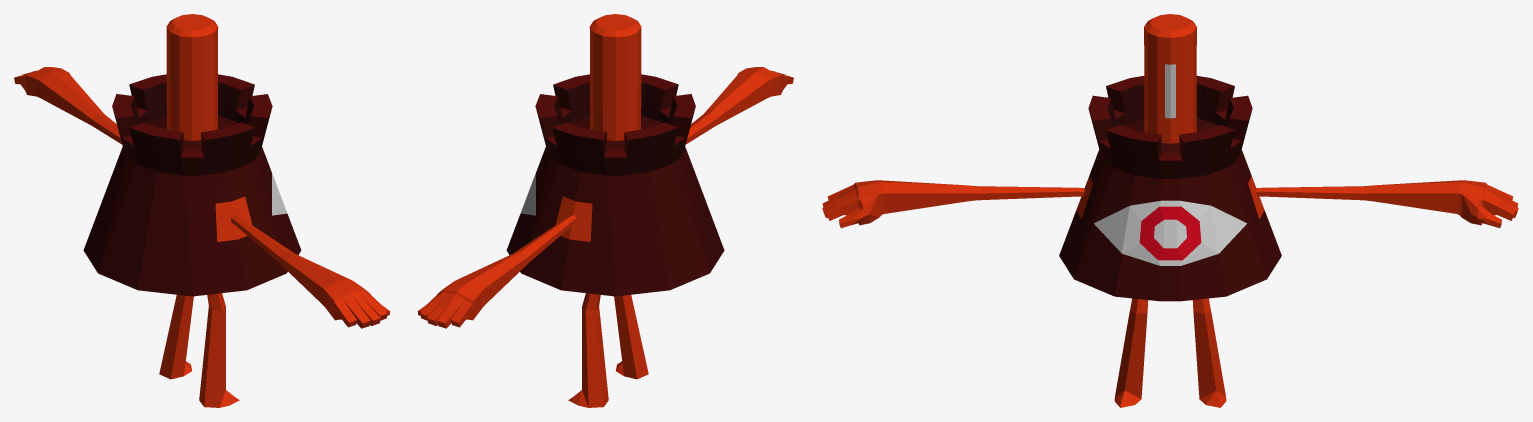
The model's file is Model_Guard.fbx.
The picture shows the model from 3 angles, left to right: view 1: azimuth 30°, elevation 25°; view 2: azimuth 150°, elevation 25°; view 3: azimuth 270°, elevation 25°; orthographic projection. The views are drawn at different scales.
Visible parts, largest first — view 1: Bewaker; view 2: Bewaker; view 3: Bewaker.
Boxes of the visible parts, x1,y1,x2,y2 form: Bewaker: [14, 14, 389, 407]; Bewaker: [418, 14, 793, 407]; Bewaker: [822, 14, 1518, 407].
Bounding box in the file's own units: 505 × 953 × 1608.
